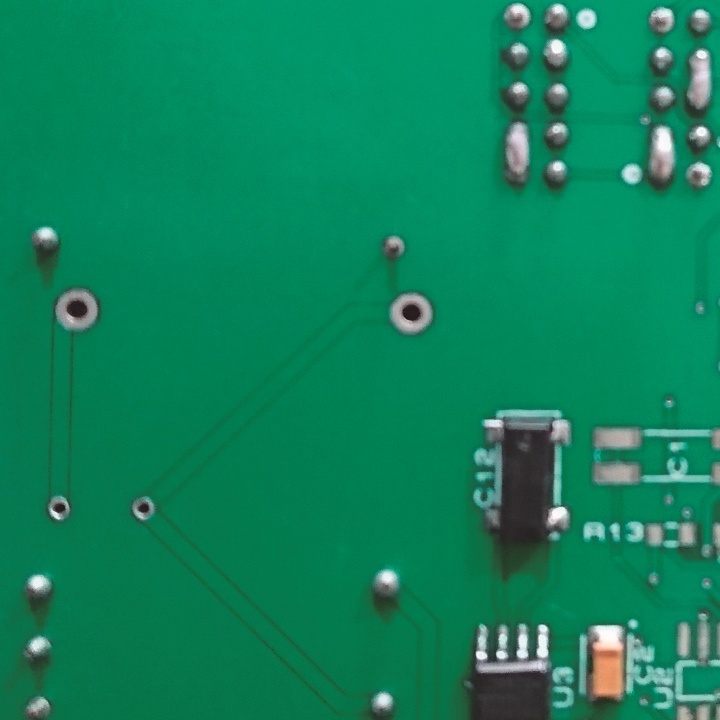F: (385, 286, 434, 341), (55, 288, 99, 335), (644, 6, 679, 41), (44, 492, 75, 525), (21, 692, 57, 720), (684, 160, 714, 192), (502, 3, 532, 32), (379, 233, 408, 260), (132, 492, 154, 524)
P: (645, 120, 678, 192), (501, 116, 532, 186), (686, 47, 716, 115)
